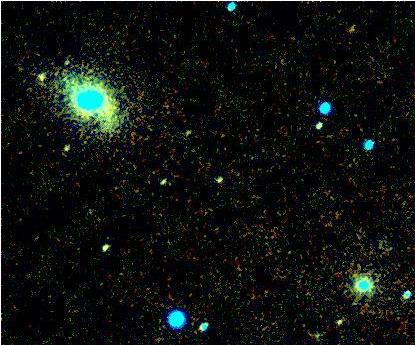star: (322, 307, 352, 337)
